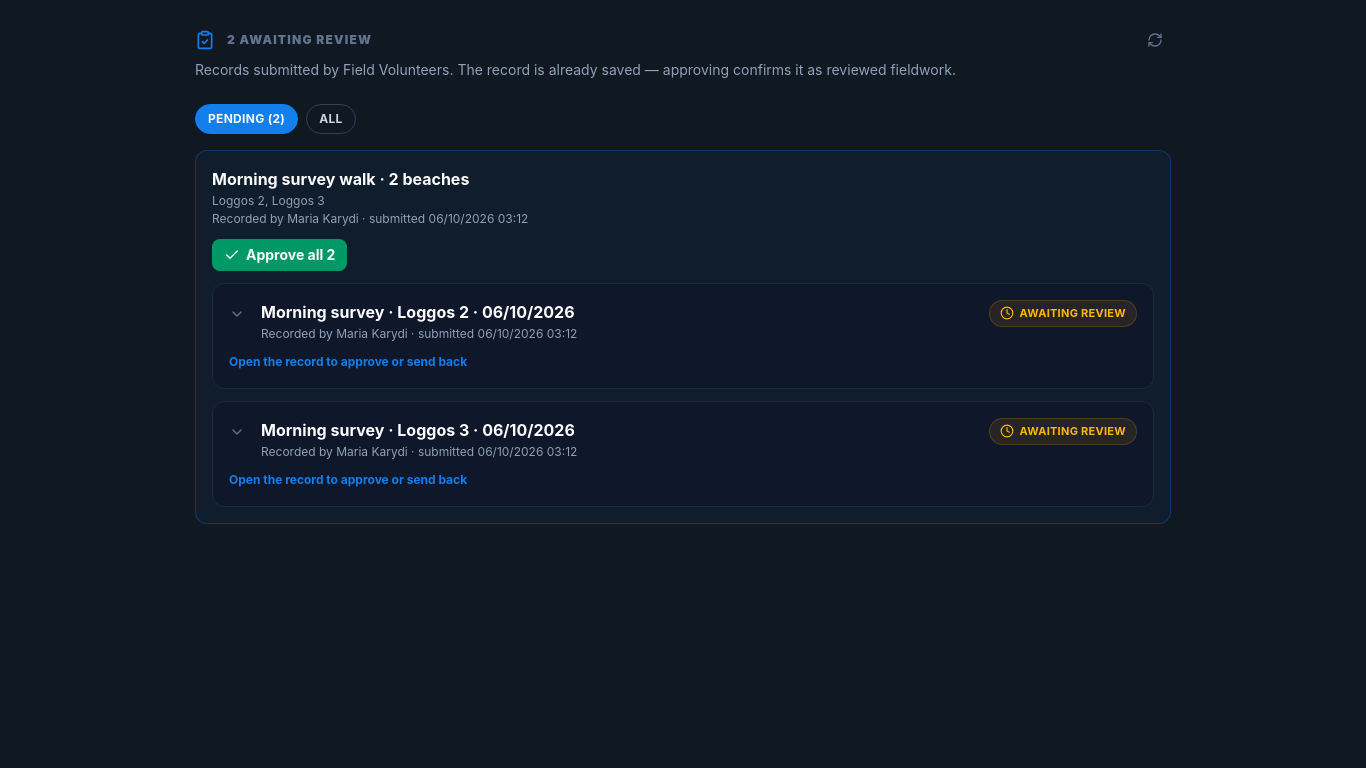
ReviewQueue — walk grouping (QA-034) › "Approve all N" approves every pending beach in the walk in one request
Expected: the text "Morning survey walk · 2 beaches" is shown, [212,169,469,189]
What coordinates should you click on to do the following:
click the button "Approve all 2"
I would click on:
 (280, 255)
Its box is [212,239,348,271].
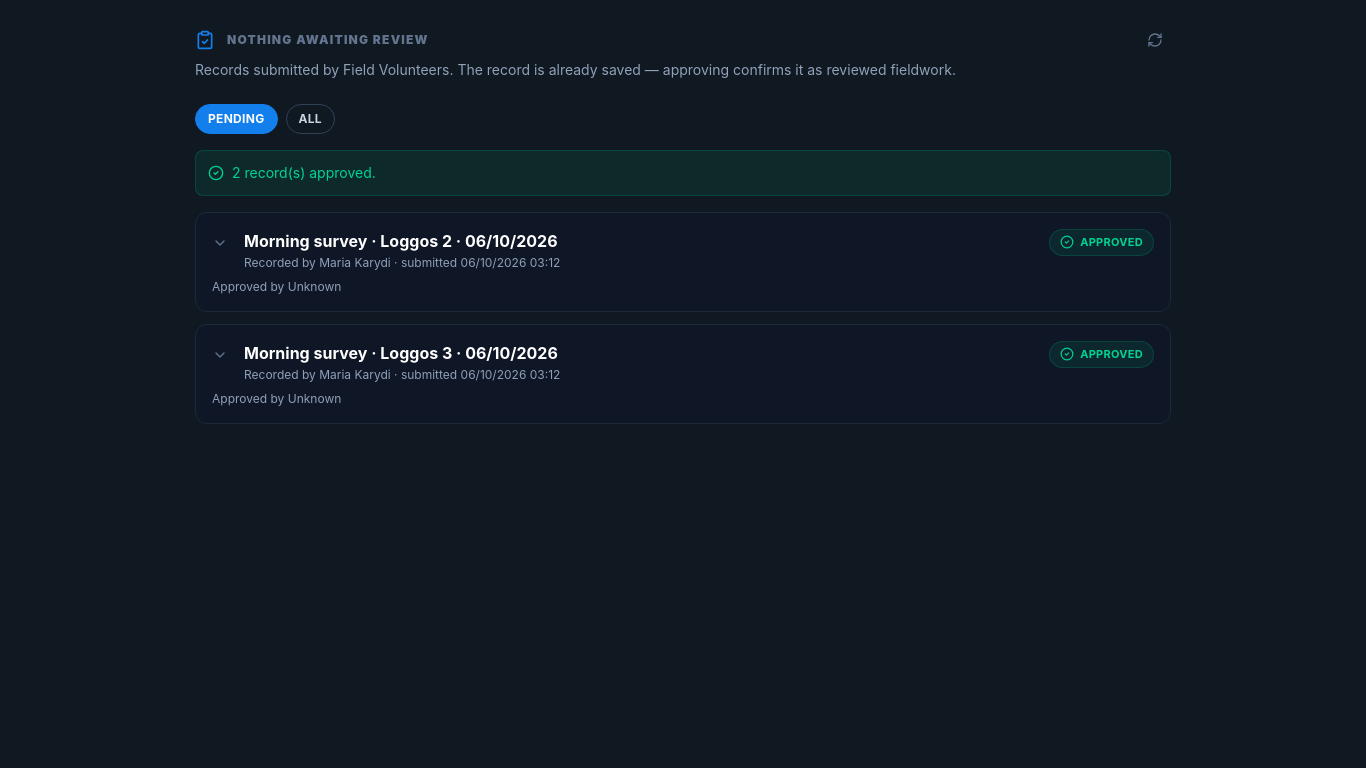
Expected: the text "2 record(s) approved." is shown, [232,163,376,183]
Expected: the text "Morning survey walk" is gone
